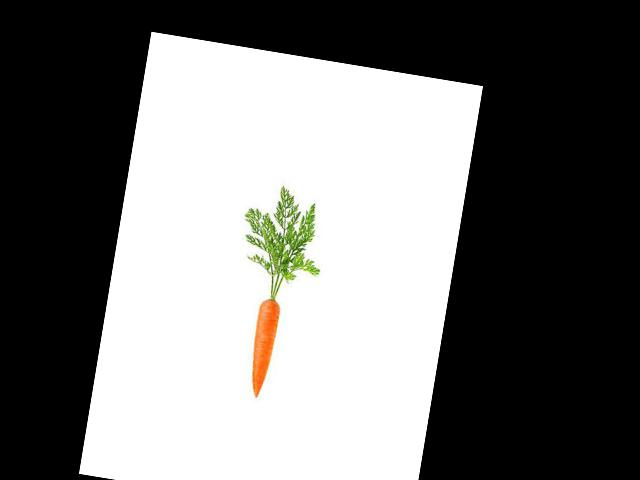carrot: (242, 294, 286, 402)
